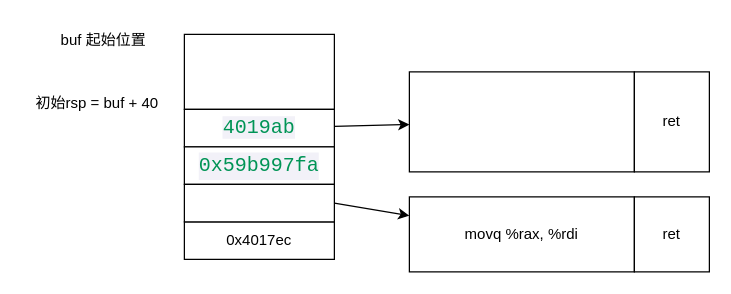
Some shapes in this 731 by 294 pixel diagram are drawn without their labels. The shapes that lost their labels are listed below. From the top down, each one's box as (x1, y1, x2, y2) in pixels, then its label:
(183, 33, 334, 109): buf
(408, 71, 634, 172): popq %rax
(183, 183, 334, 222): 4019a2
